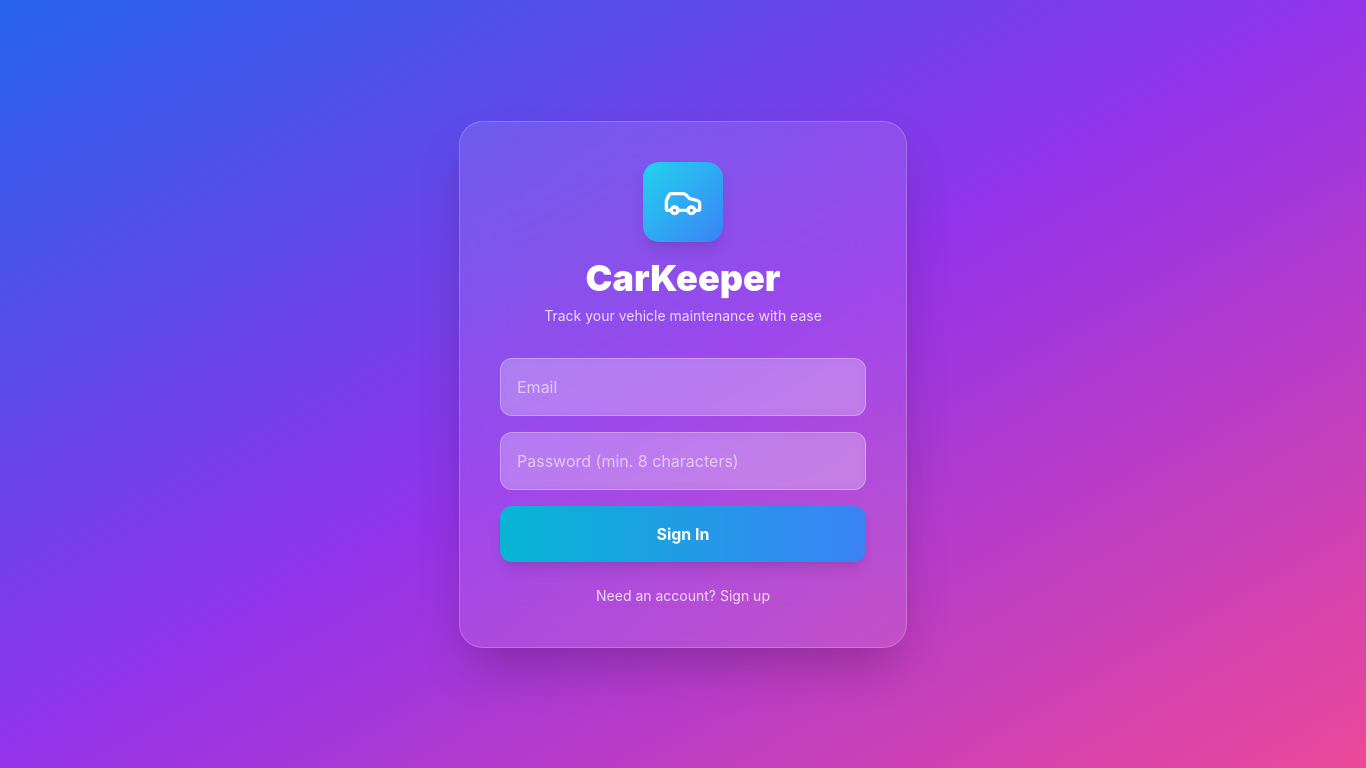
Test case: authentication › switches to registration and back
Click the button "Need an account? Sign up".
click(683, 596)  # box [500,586,866,606]
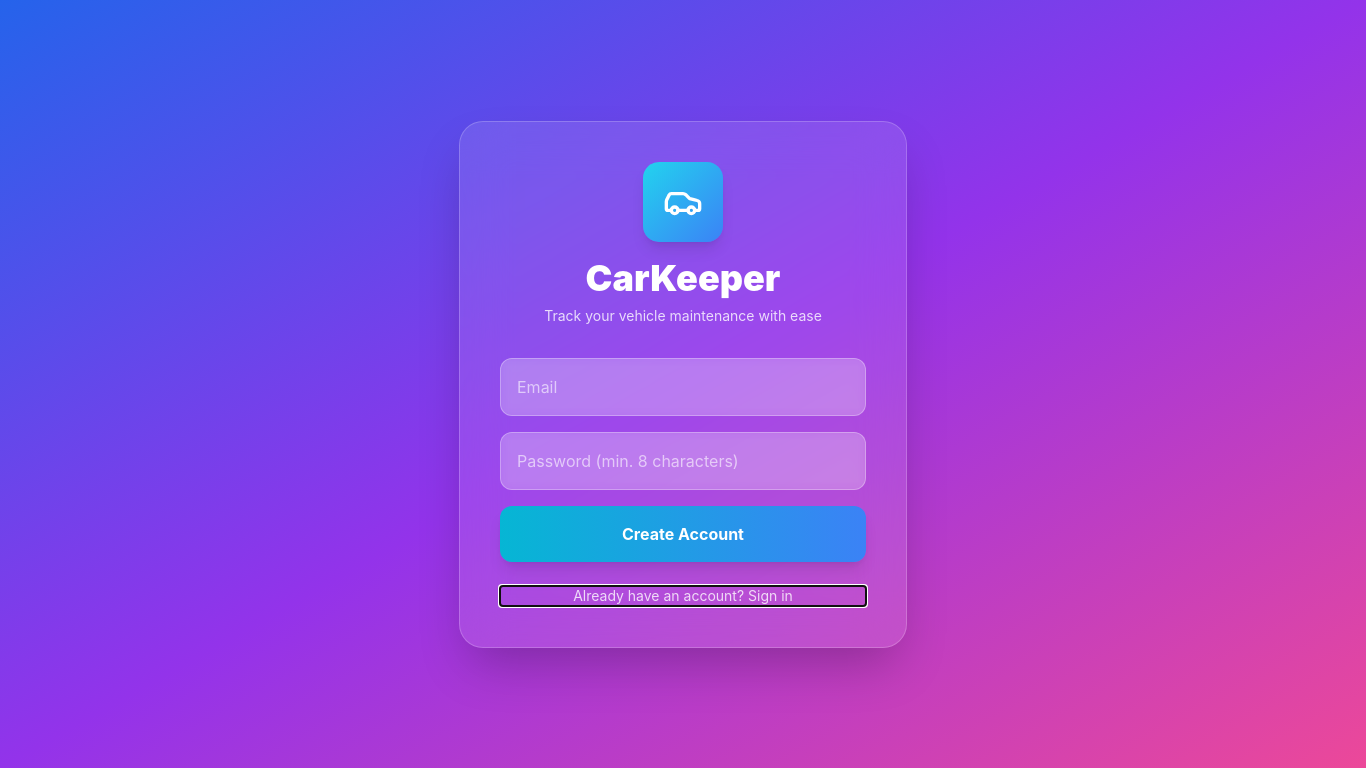
Check: the button "Create Account" is shown, box [500,506,866,562]
Click the button "Already have an account? Sign in".
click(683, 596)  # box [500,586,866,606]
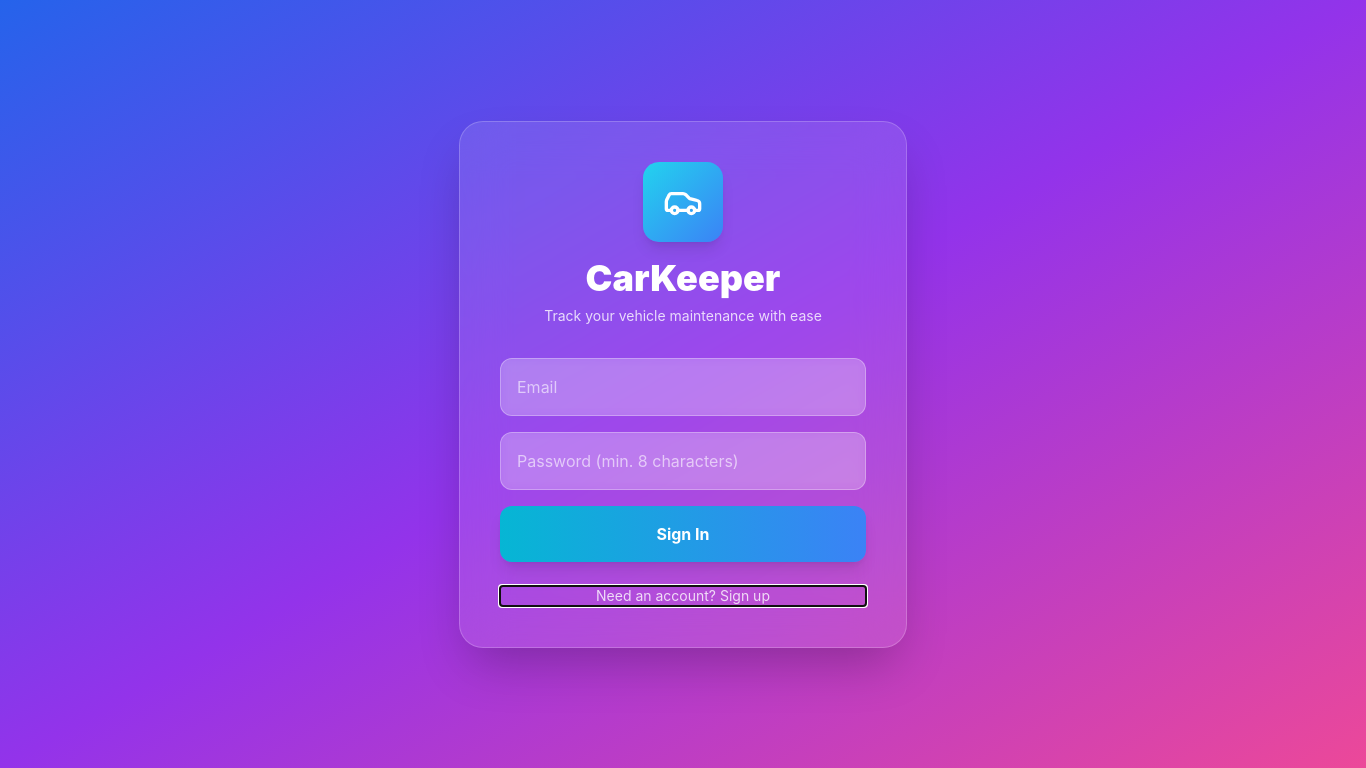
Check: the button "Sign In" is shown, box [500,506,866,562]
